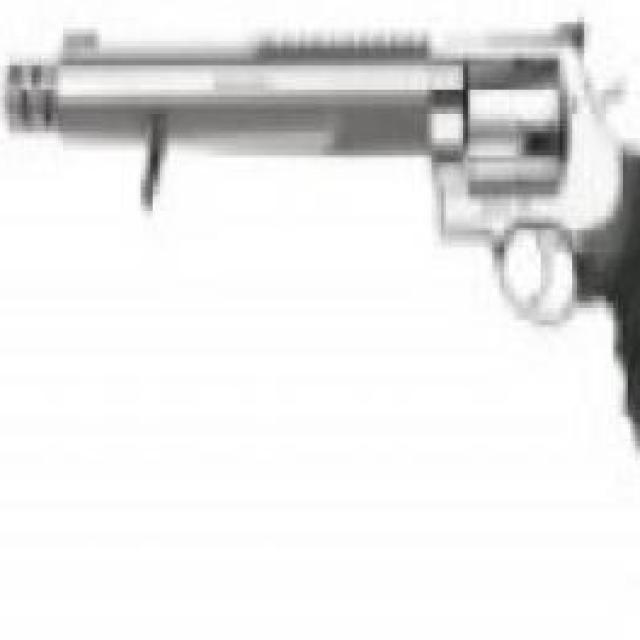pistol: (10, 0, 640, 451)
